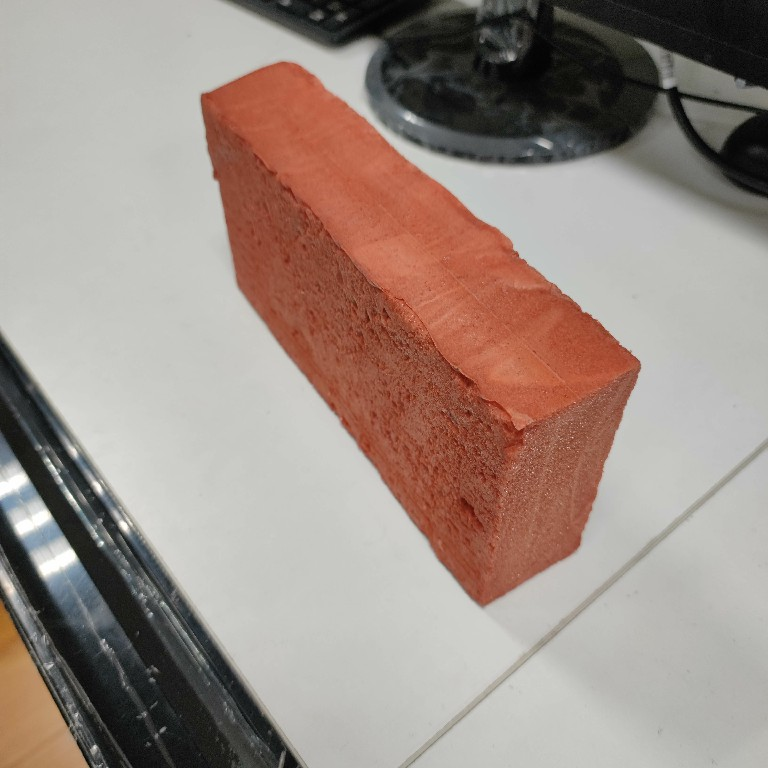brick: (198, 52, 643, 614)
